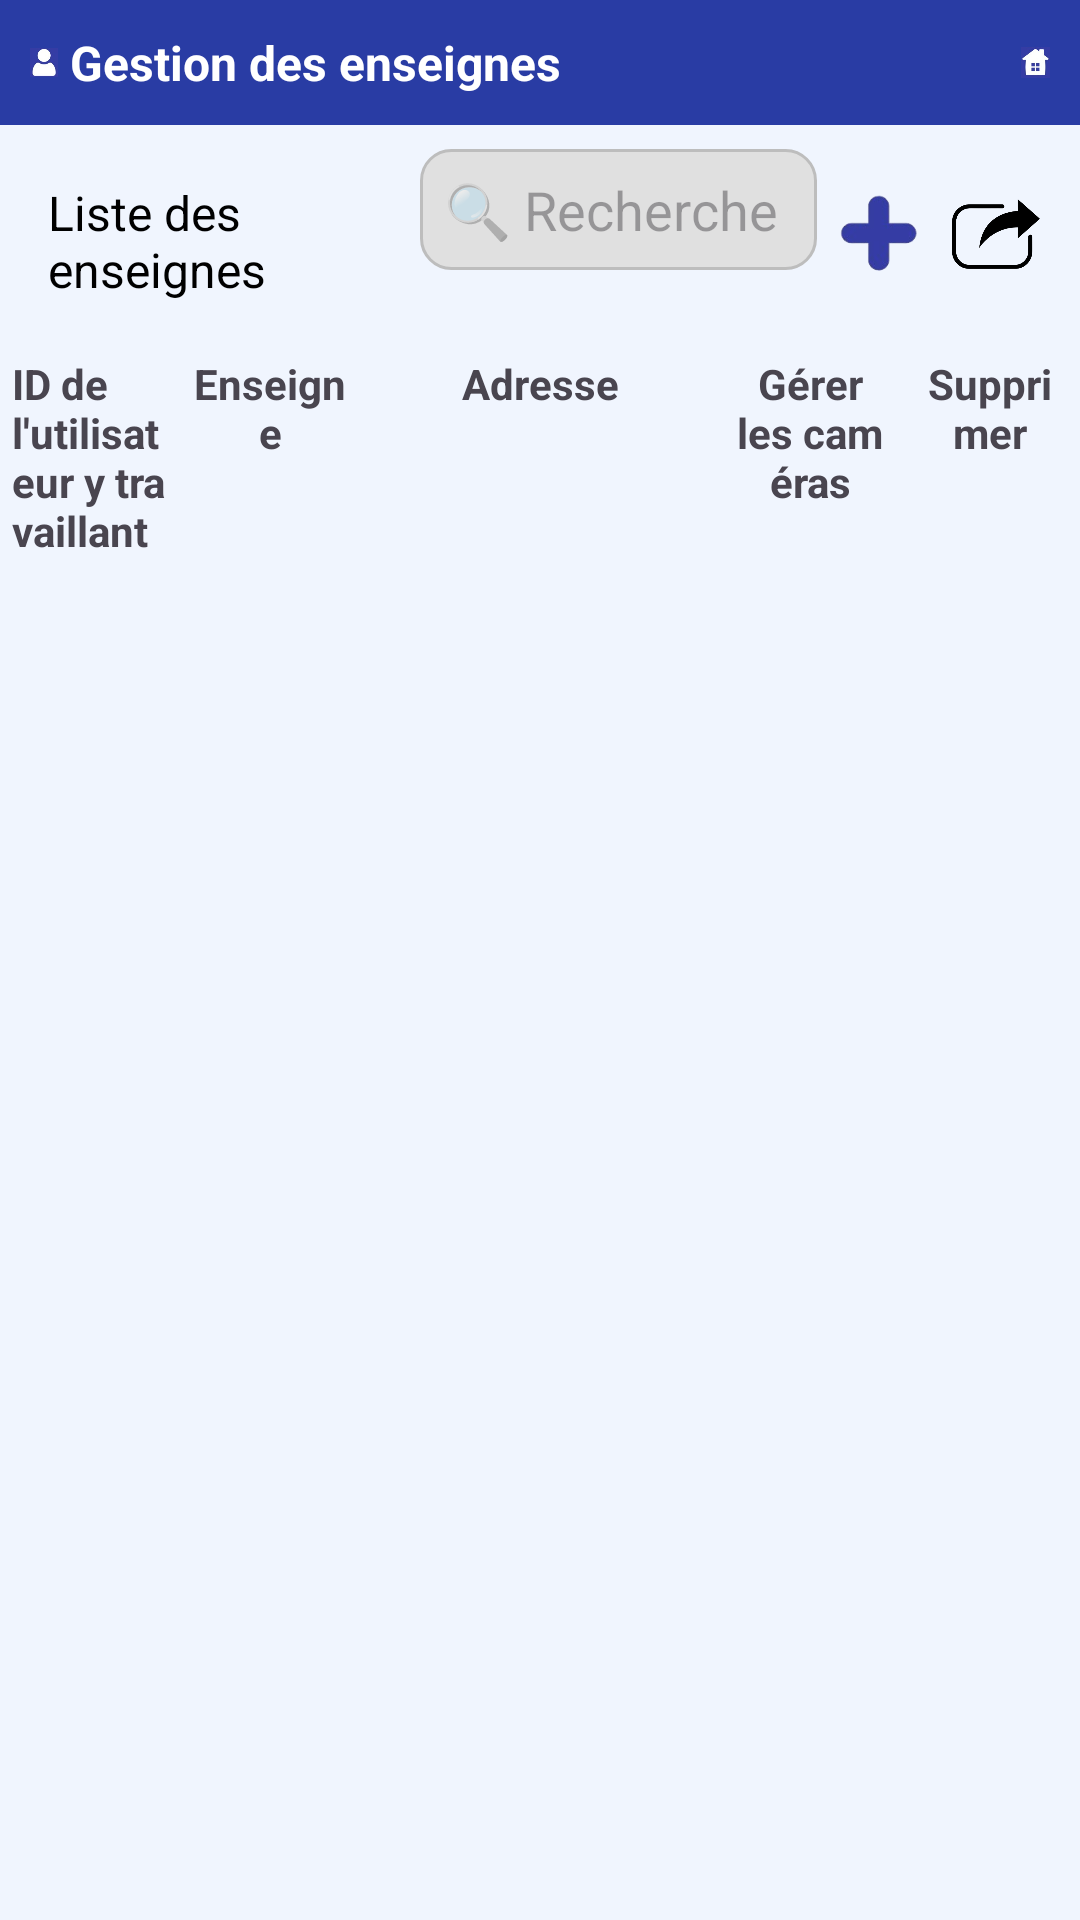

Icons on this 1080 × 1920 Android screen, each with its box as (x1, y1, x2, y2):
add: (841, 195, 917, 271)
export: (952, 200, 1040, 269)
home: (1022, 49, 1049, 75)
user: (32, 49, 56, 76)
